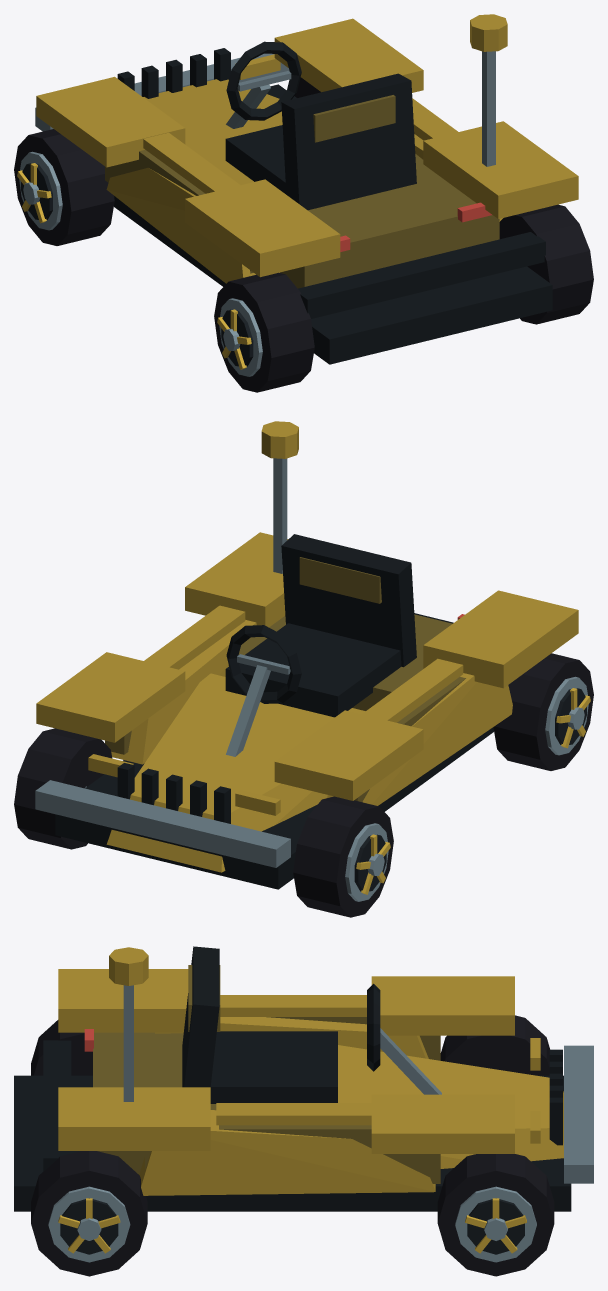
The model's file is kart.glb.
3 views of the same model, one above another, from view 1: azimuth 30°, elevation 25°; view 2: azimuth 150°, elevation 25°; view 3: azimuth 270°, elevation 25° (orthographic).
Visible parts, largest first — view 1: chassis, wheel-rear-left, wheel-front-left, wheel-rear-right; view 2: chassis, wheel-front-left, wheel-rear-left, wheel-front-right; view 3: chassis, wheel-rear-right, wheel-front-right, wheel-front-left, wheel-rear-left.
Boxes of the visible parts, <box> form: chassis: <box>35,14,578,364</box>; wheel-rear-left: <box>214,272,314,392</box>; wheel-front-left: <box>14,129,114,245</box>; wheel-rear-right: <box>499,204,593,324</box>; chassis: <box>35,421,578,889</box>; wheel-front-left: <box>293,796,393,917</box>; wheel-rear-left: <box>493,653,593,770</box>; wheel-front-right: <box>14,728,112,849</box>; chassis: <box>14,946,593,1211</box>; wheel-rear-right: <box>31,1151,147,1276</box>; wheel-front-right: <box>437,1154,554,1276</box>; wheel-front-left: <box>440,1015,549,1075</box>; wheel-rear-left: <box>31,1020,92,1075</box>.
Bounding box in the file's own units: 2.18 × 1.72 × 3.08.
